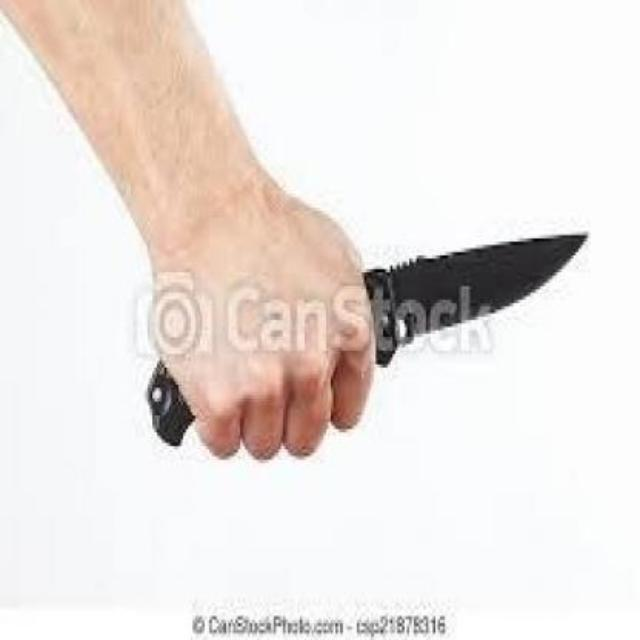Knife: (147, 234, 588, 446)
